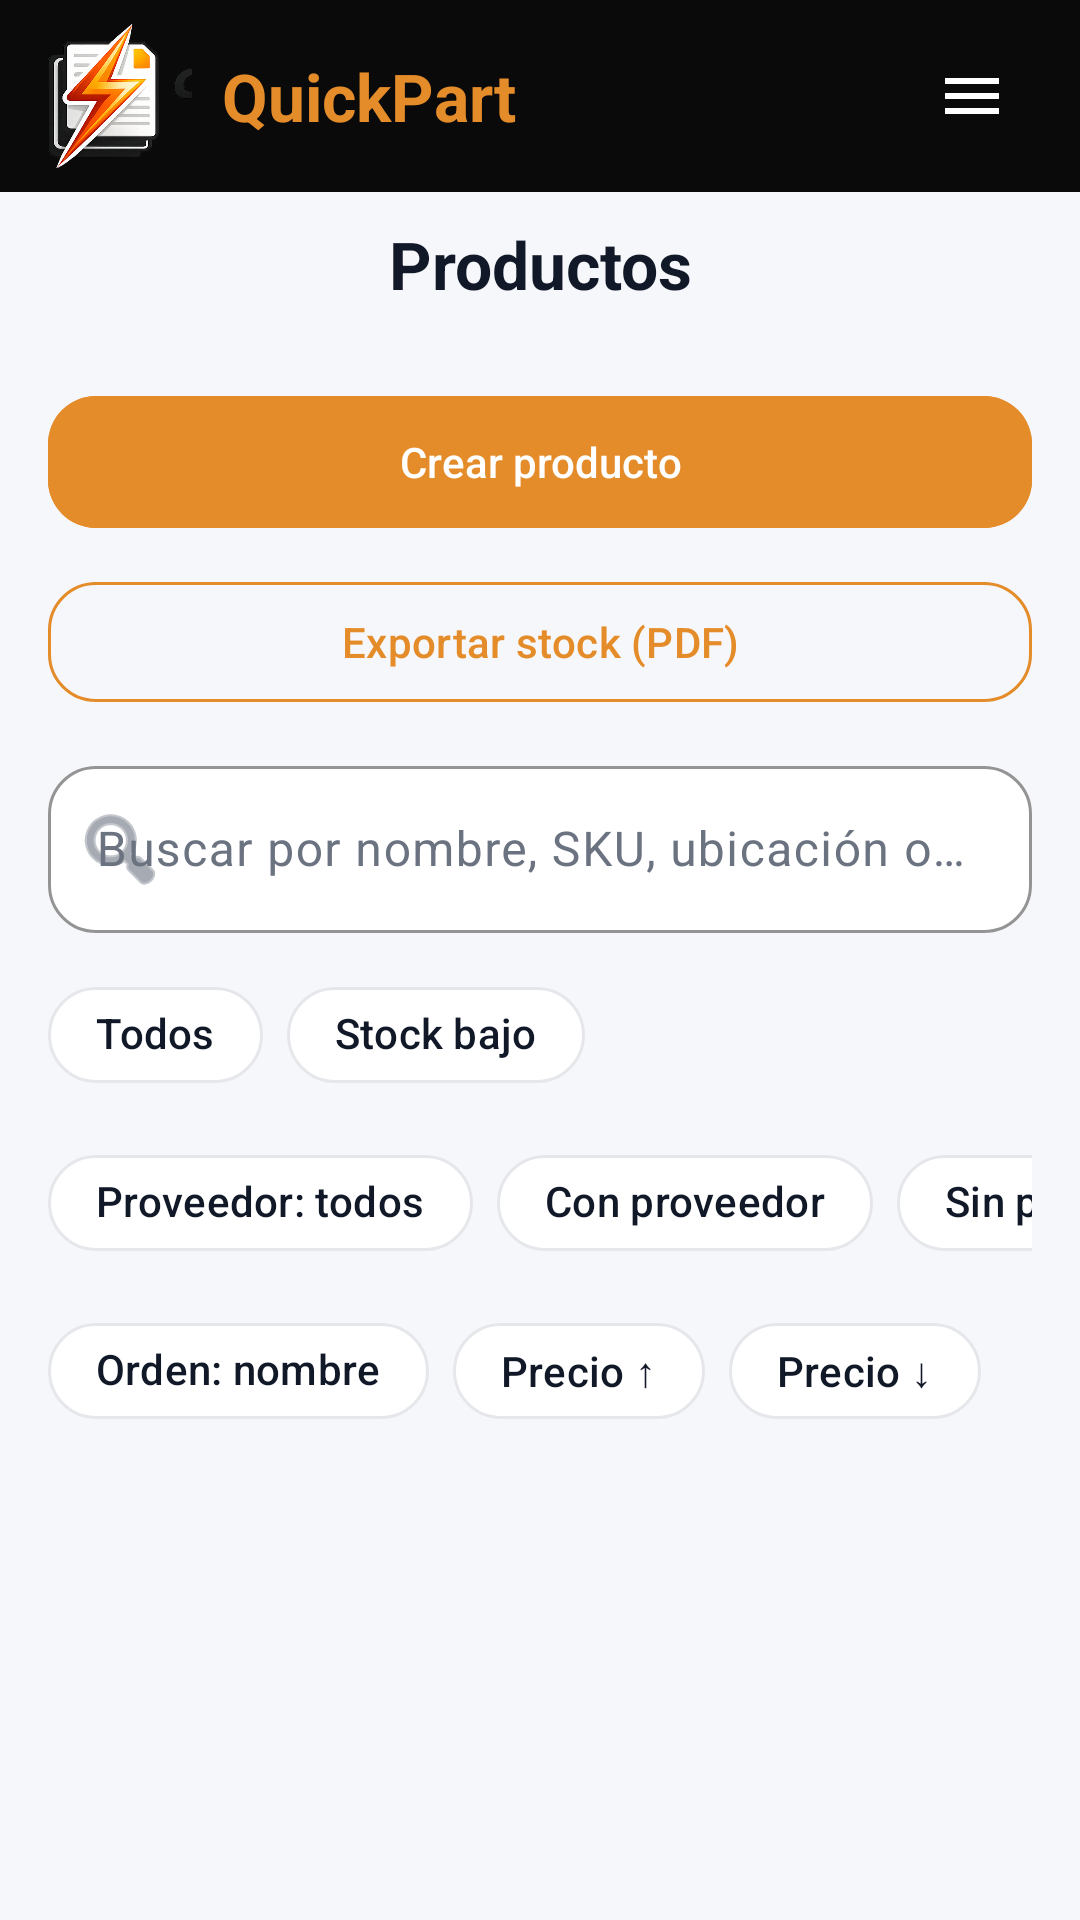

Point at icon controls on the screen. Image size 1080 × 1920, points as (x,y).
Menu: (972,96)
